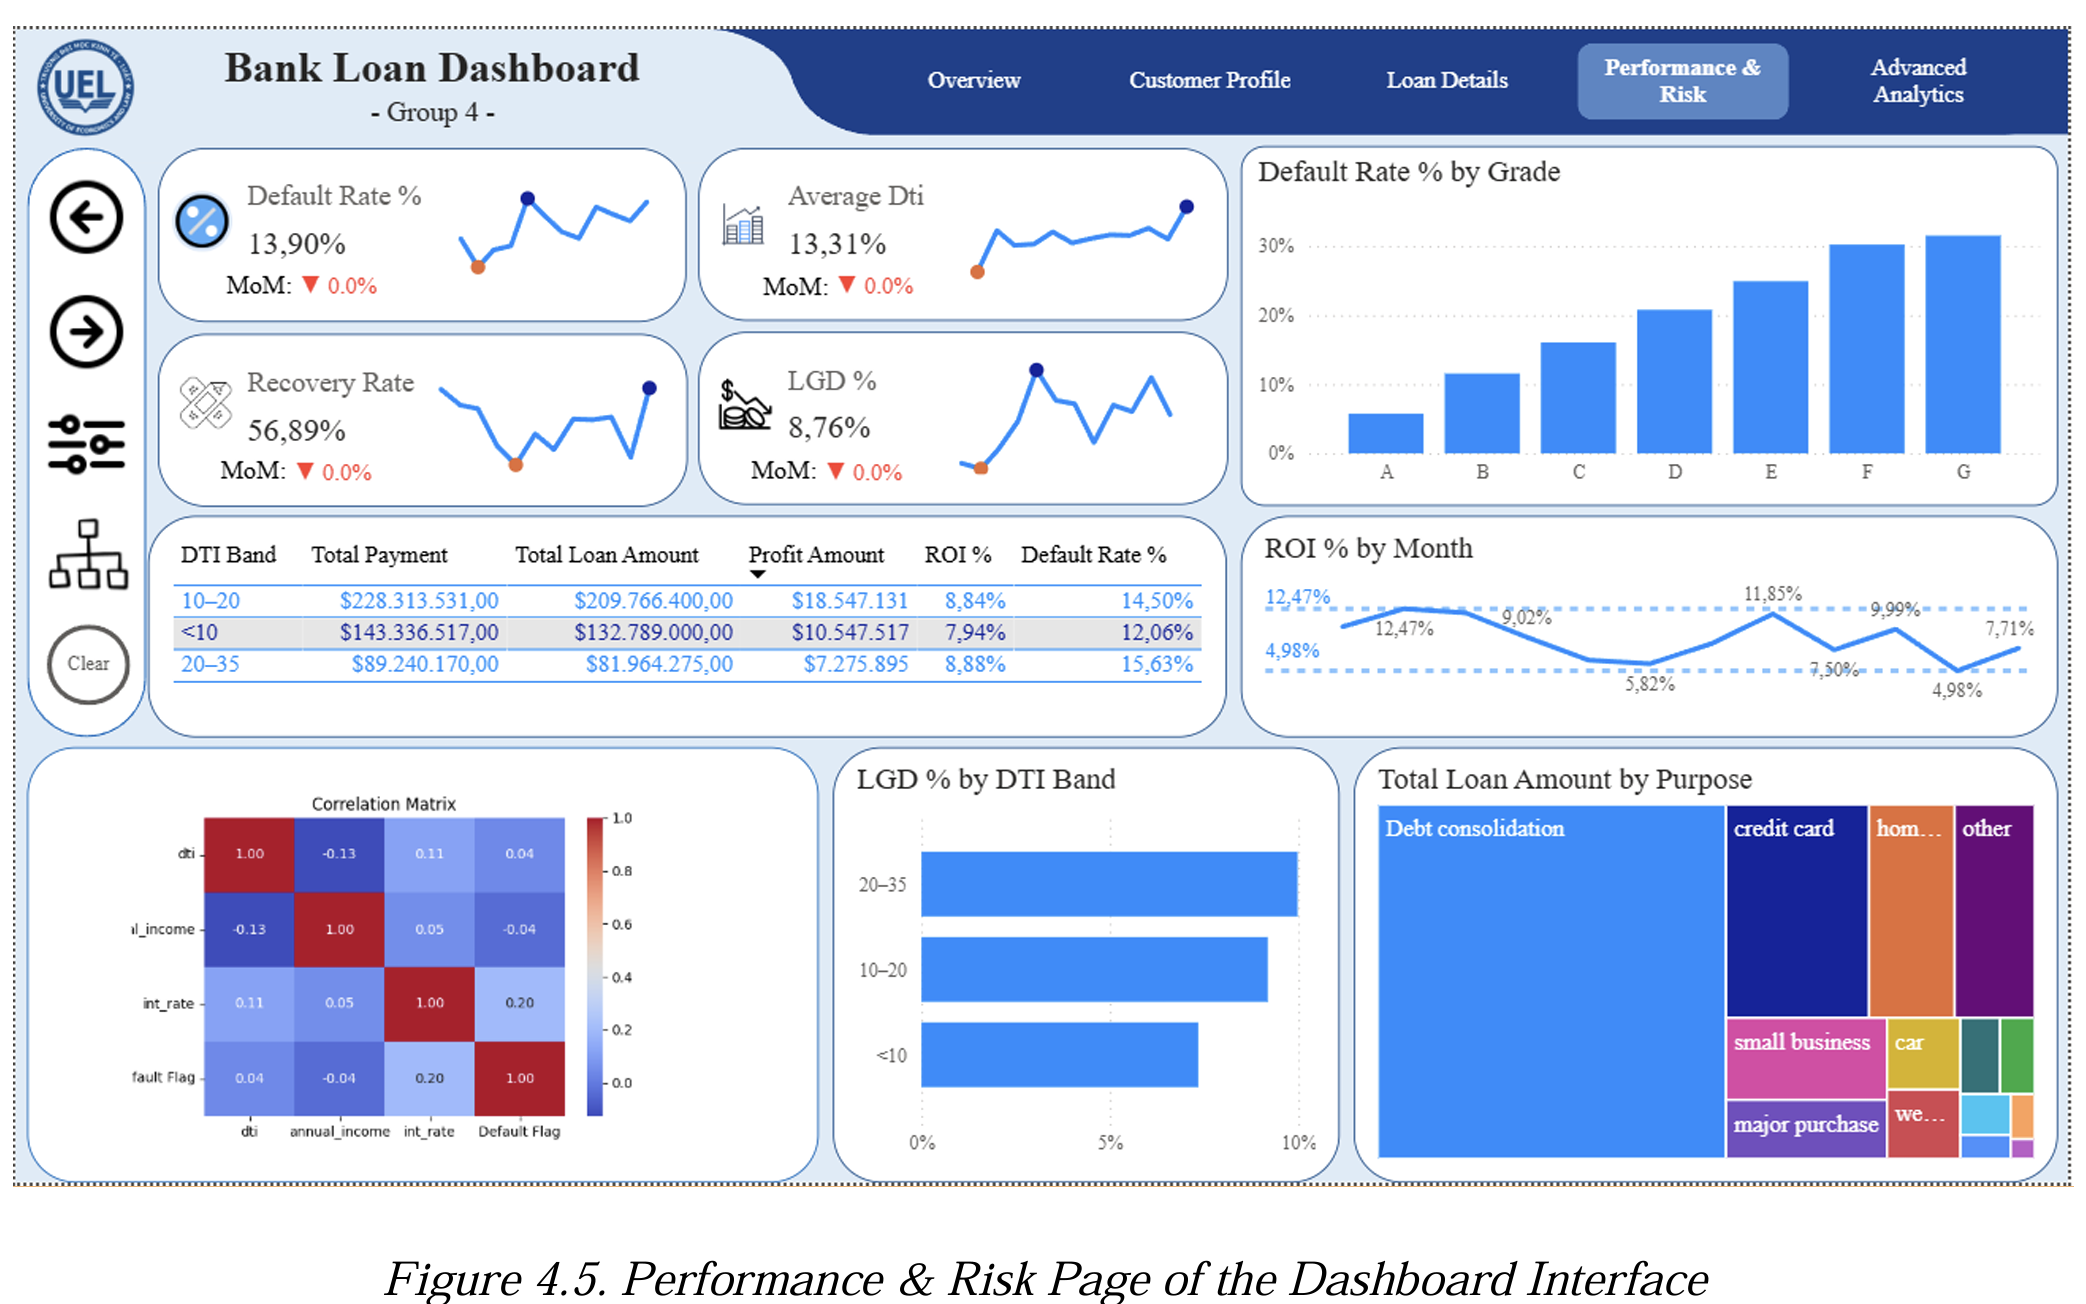

The page's visual inventory and layout, read from the dashboard file:
{"tool":"powerbi","page":{"name":"Performance & Risk","canvas":[1280,720],"ordinal":4},"visuals":[{"type":"shape","box":[0,0,1280.2,719.8],"z":0},{"type":"shape","box":[482,0,792,66],"z":0,"group":"g2"},{"type":"pageNavigator","box":[532.5,8.8,132.6,48.8],"z":0,"group":"g3"},{"type":"group","id":"g1","title":"Group 3","box":[88.9,74.1,329.6,108.6],"z":0,"group":"g5"},{"type":"cardVisual","fields":{"Data":["Measure.Default Rate %"]},"box":[88.9,74.1,329.6,108.6],"z":0,"group":"g1"},{"type":"cardVisual","fields":{"Data":["Measure.Average dti"]},"box":[425.7,74.1,330,108],"z":0,"group":"g6"},{"type":"cardVisual","fields":{"Data":["Measure.LGD %"]},"box":[425.9,188.9,330,108],"z":0,"group":"g7"},{"type":"cardVisual","fields":{"Data":["Measure.Recovery Rate"]},"box":[88.9,190.1,330,108],"z":0,"group":"g4"},{"type":"shape","box":[381.5,0,898.8,42],"z":1000},{"type":"shape","box":[532,0,748.6,65.7],"z":1000,"group":"g2"},{"type":"pageNavigator","box":[827.1,8.8,132.6,48.8],"z":1000,"group":"g3"},{"type":"lineChart","fields":{"Category":["Dim_Time.Date.Variation.Date Hierarchy.Year","Dim_Time.Date.Variation.Date Hierarchy.Month"],"Y":["Measure.Default Rate %","Measure.Max Default Rate % By Month","Measure.Min Default Rate % By Month"]},"box":[262.8,82.4,146.1,93.2],"z":1000,"group":"g1"},{"type":"image","box":[435.4,95,36.2,52.9],"z":1000,"group":"g6"},{"type":"image","box":[88.9,96.4,55.7,47.3],"z":1000,"group":"g5"},{"type":"shape","box":[0,0,492.5,83.8],"z":2000},{"type":"pageNavigator","box":[974.4,8.8,132.6,48.8],"z":2000,"group":"g3"},{"type":"lineChart","fields":{"Category":["Dim_Time.Date.Variation.Date Hierarchy.Year","Dim_Time.Date.Variation.Date Hierarchy.Month"],"Y":["Measure.Average dti","Measure.Max Average DTI","Measure.Min Average DTI"]},"box":[585,77.8,160.5,101.2],"z":2000,"group":"g6"},{"type":"lineChart","fields":{"Y":["Measure.LGD %","Measure.Max LGD % by Month","Measure.Min LGD % by Month"],"Category":["dim_Time.Date.Variation.Date Hierarchy.Year","dim_Time.Date.Variation.Date Hierarchy.Month"]},"box":[574.8,181.9,160,101.6],"z":2000,"group":"g7"},{"type":"lineChart","fields":{"Category":["Dim_Time.Date.Variation.Date Hierarchy.Year","Dim_Time.Date.Variation.Date Hierarchy.Month"],"Y":["Measure.Recovery Rate","Measure.Max Recovery Rate By Month","Measure.Min Recovery Rate By Month"]},"box":[250.3,190.1,160,100.2],"z":2000,"group":"g4"},{"type":"shape","title":"Bank Loan Dashboard","box":[118.6,8.6,282.9,31.4],"z":3000},{"type":"pageNavigator","box":[679.8,8.8,132.6,48.8],"z":3000,"group":"g3"},{"type":"image","box":[7.1,0,72.9,72.9],"z":4000},{"type":"pageNavigator","box":[1121.7,8.8,132.6,48.8],"z":4000,"group":"g3"},{"type":"shape","title":"- Group 4 -","box":[214.8,41.9,91,20],"z":5000},{"type":"group","id":"g2","title":"Group 2","box":[482,0,798.6,66],"z":6000},{"type":"group","id":"g3","title":"Group 1","box":[532.5,8.8,721.2,48.8],"z":7000},{"type":"group","id":"g4","title":"Group 4","box":[88.9,190.1,330,108],"z":8000},{"type":"group","id":"g5","title":"Group 5","box":[88.9,74.1,329.6,108.6],"z":9000},{"type":"shape","box":[7.4,74.1,74.1,367.8],"z":10000},{"type":"actionButton","box":[19.3,372.2,51.9,50.4],"z":11000},{"type":"image","box":[14.8,158.7,59.3,59.3],"z":12000},{"type":"image","box":[14.8,229.8,59.3,59.3],"z":13000},{"type":"image","box":[16.3,298.1,59.3,59.3],"z":14000},{"type":"image","box":[14.8,87.5,59.3,59.3],"z":15000},{"type":"group","id":"g6","title":"Group 4","box":[425.7,74.1,330,108],"z":16000},{"type":"clusteredColumnChart","title":"Default Rate % by Grade","fields":{"Y":["Measure.Default Rate %"],"Category":["dim_creditgrade.grade"]},"box":[764.2,72.8,509.9,224.7],"z":17000},{"type":"card","title":"Mom","fields":{"Values":["Measure.DTI Growth Display"]},"box":[481.7,129.9,108.5,64],"z":18000,"group":"g9"},{"type":"card","title":"Mom","fields":{"Values":["Measure.Default Rate Growth Display"]},"box":[147.5,130.1,108.5,64],"z":18000,"group":"g8"},{"type":"group","id":"g7","title":"Group 4","box":[425.9,181.9,330,115],"z":18000},{"type":"card","title":"Mom","fields":{"Values":["Measure.LGD Growth Display"]},"box":[473.5,246.1,109.3,64],"z":18000,"group":"g11"},{"type":"card","title":"Mom","fields":{"Values":["Measure.Recovery Rate Growth Display"]},"box":[143.3,246.3,109.3,64],"z":18000,"group":"g10"},{"type":"barChart","fields":{"Category":["fact_loan.DTI Band"],"Y":["Measure.LGD %"]},"box":[509.9,448.1,316,271.6],"z":19000},{"type":"treemap","title":"Total Loan Amount by Purpose","fields":{"Values":["Measure.Total Loan Amount"],"Group":["dim_purpose.purpose"]},"box":[834.6,448.1,439.5,271.6],"z":20000},{"type":"tableEx","fields":{"Values":["fact_loan.DTI Band","Measure.Total Payment","Measure.Total Loan Amount","Measure.Profit Amount","Measure.ROI %","Measure.Default Rate %"]},"box":[82.7,303.7,672.8,138.3],"z":21000},{"type":"pythonVisual","fields":{"Values":["fact_loan.dti","fact_loan.annual_income","fact_loan.int_rate","Measure.Default Flag"]},"box":[7.4,448.1,493.8,271.6],"z":22000},{"type":"lineChart","title":"ROI % by Month ","fields":{"Y":["Measure.ROI %"],"Category":["dim_Time.Month Number"]},"box":[764.2,303.7,509.9,138.3],"z":23000},{"type":"image","box":[96,212.9,44.5,41.7],"z":27000},{"type":"image","box":[432.7,212.9,45.9,43.1],"z":28000},{"type":"group","id":"g8","title":"Group 12","box":[123.8,130.1,132.2,64],"z":28001},{"type":"group","id":"g9","title":"Group 12","box":[458,129.9,132.2,64],"z":28002},{"type":"group","id":"g10","title":"Group 12","box":[120,246.3,132.2,64],"z":28003},{"type":"group","id":"g11","title":"Group 12","box":[450.2,246.1,132.2,64],"z":28004},{"type":"textbox","box":[123.8,146.2,61.6,38.4],"z":30000,"group":"g8"},{"type":"textbox","box":[458,147.1,61.6,38.4],"z":30000,"group":"g9"},{"type":"textbox","box":[450.2,262.7,61.6,38.4],"z":30000,"group":"g11"},{"type":"textbox","box":[120,262.9,61.6,38.4],"z":30000,"group":"g10"}]}

Visuals, with their boxes on the page's 1280x720 design canvas (x1, y1, x2, y2). These are canvas units, not pixel positions in the 2086x1304 screenshot, which may show the page scaled, cropped or inside an application window:
shape: x1=0 y1=0 x2=1280 y2=720
shape: x1=482 y1=0 x2=1274 y2=66
pageNavigator: x1=532 y1=9 x2=665 y2=58
"Group 3" group: x1=89 y1=74 x2=418 y2=183
cardVisual - Measure.Default Rate %: x1=89 y1=74 x2=418 y2=183
cardVisual - Measure.Average dti: x1=426 y1=74 x2=756 y2=182
cardVisual - Measure.LGD %: x1=426 y1=189 x2=756 y2=297
cardVisual - Measure.Recovery Rate: x1=89 y1=190 x2=419 y2=298
shape: x1=382 y1=0 x2=1280 y2=42
shape: x1=532 y1=0 x2=1281 y2=66
pageNavigator: x1=827 y1=9 x2=960 y2=58
lineChart - Dim_Time.Date.Variation.Date Hierarchy.Year x Dim_Time.Date.Variation.Date Hierarchy.Month: x1=263 y1=82 x2=409 y2=176
image: x1=435 y1=95 x2=472 y2=148
image: x1=89 y1=96 x2=145 y2=144
shape: x1=0 y1=0 x2=492 y2=84
pageNavigator: x1=974 y1=9 x2=1107 y2=58
lineChart - Dim_Time.Date.Variation.Date Hierarchy.Year x Dim_Time.Date.Variation.Date Hierarchy.Month: x1=585 y1=78 x2=746 y2=179
lineChart - Measure.LGD % x Measure.Max LGD % by Month: x1=575 y1=182 x2=735 y2=284
lineChart - Dim_Time.Date.Variation.Date Hierarchy.Year x Dim_Time.Date.Variation.Date Hierarchy.Month: x1=250 y1=190 x2=410 y2=290
"Bank Loan Dashboard" shape: x1=119 y1=9 x2=402 y2=40
pageNavigator: x1=680 y1=9 x2=812 y2=58
image: x1=7 y1=0 x2=80 y2=73
pageNavigator: x1=1122 y1=9 x2=1254 y2=58
"- Group 4 -" shape: x1=215 y1=42 x2=306 y2=62
"Group 2" group: x1=482 y1=0 x2=1281 y2=66
"Group 1" group: x1=532 y1=9 x2=1254 y2=58
"Group 4" group: x1=89 y1=190 x2=419 y2=298
"Group 5" group: x1=89 y1=74 x2=418 y2=183
shape: x1=7 y1=74 x2=82 y2=442
actionButton: x1=19 y1=372 x2=71 y2=423
image: x1=15 y1=159 x2=74 y2=218
image: x1=15 y1=230 x2=74 y2=289
image: x1=16 y1=298 x2=76 y2=357
image: x1=15 y1=88 x2=74 y2=147
"Group 4" group: x1=426 y1=74 x2=756 y2=182
"Default Rate % by Grade" clusteredColumnChart: x1=764 y1=73 x2=1274 y2=298
"Mom" card: x1=482 y1=130 x2=590 y2=194
"Mom" card: x1=148 y1=130 x2=256 y2=194
"Group 4" group: x1=426 y1=182 x2=756 y2=297
"Mom" card: x1=474 y1=246 x2=583 y2=310
"Mom" card: x1=143 y1=246 x2=253 y2=310
barChart - fact_loan.DTI Band x Measure.LGD %: x1=510 y1=448 x2=826 y2=720
"Total Loan Amount by Purpose" treemap: x1=835 y1=448 x2=1274 y2=720
tableEx - fact_loan.DTI Band x Measure.Total Payment: x1=83 y1=304 x2=756 y2=442
pythonVisual - fact_loan.dti x fact_loan.annual_income: x1=7 y1=448 x2=501 y2=720
"ROI % by Month " lineChart: x1=764 y1=304 x2=1274 y2=442
image: x1=96 y1=213 x2=140 y2=255
image: x1=433 y1=213 x2=479 y2=256
"Group 12" group: x1=124 y1=130 x2=256 y2=194
"Group 12" group: x1=458 y1=130 x2=590 y2=194
"Group 12" group: x1=120 y1=246 x2=252 y2=310
"Group 12" group: x1=450 y1=246 x2=582 y2=310
textbox: x1=124 y1=146 x2=185 y2=185
textbox: x1=458 y1=147 x2=520 y2=186
textbox: x1=450 y1=263 x2=512 y2=301
textbox: x1=120 y1=263 x2=182 y2=301
